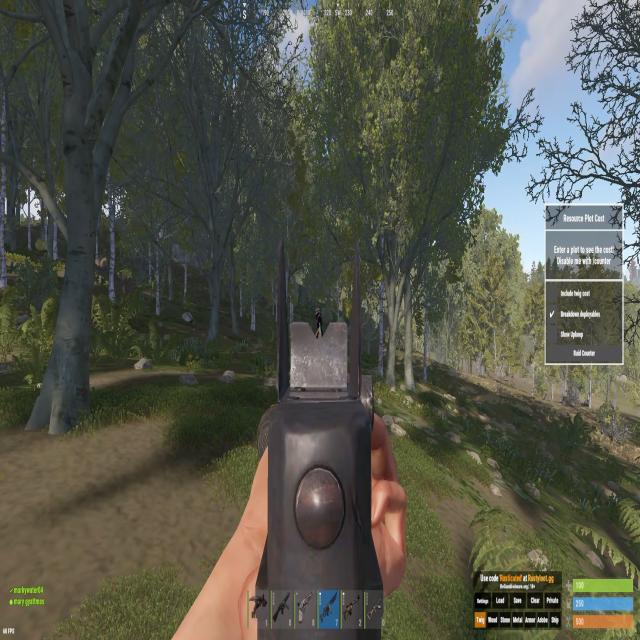Player: (315, 307, 323, 339)
